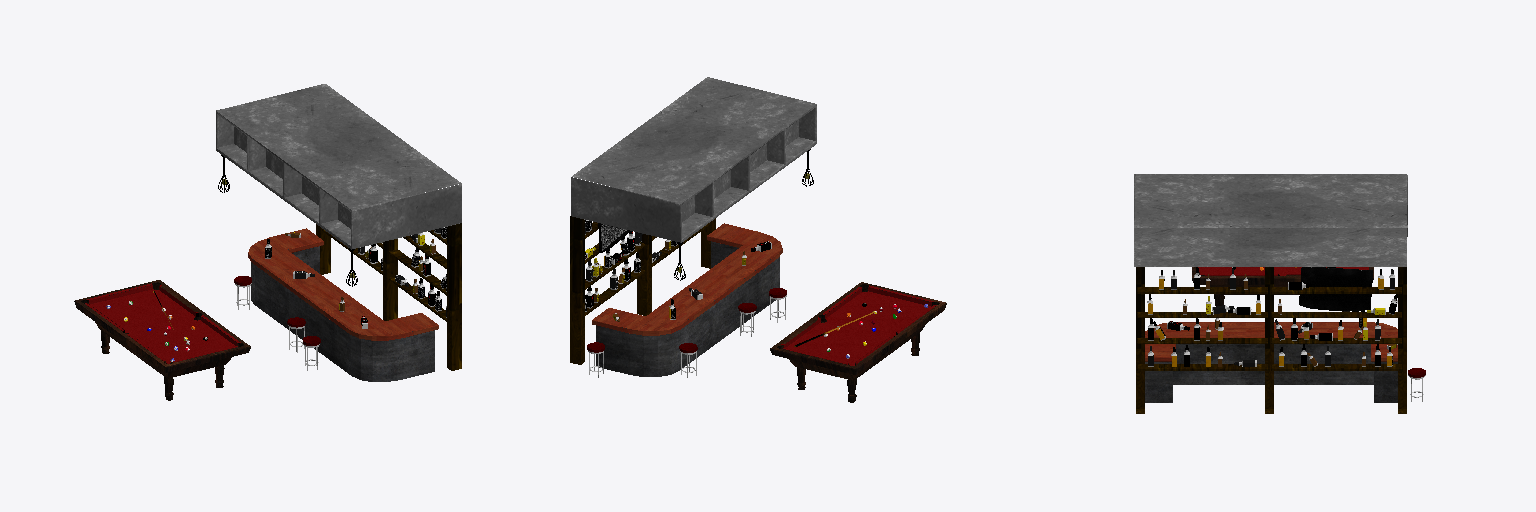
3 views of the same model, side by side, from view 1: azimuth 30°, elevation 25°; view 2: azimuth 150°, elevation 25°; view 3: azimuth 270°, elevation 25° (orthographic).
Visible parts, largest first — view 1: Mesh_1_Mesh_1_WallConcrete_MAT1, Mesh_1_Mesh_1_TableConcrete_MAT1, Mesh_1.001_Mesh_1.001_PoolTableFelt_MAT2, Mesh_1_Mesh_1_TableWood_MAT1, Mesh_1_Mesh_1_WallWood_MAT1, Mesh_1.001_Mesh_1.001_PoolTableWood_MAT2; view 2: Mesh_1_Mesh_1_WallConcrete_MAT1, Mesh_1_Mesh_1_TableConcrete_MAT1, Mesh_1_Mesh_1_TableWood_MAT1, Mesh_1.001_Mesh_1.001_PoolTableFelt_MAT2, Mesh_1_Mesh_1_WallWood_MAT1, Mesh_1.001_Mesh_1.001_PoolTableWood_MAT2, Mesh_1_Mesh_1_ChairLeather_MAT1, Mesh_1_Mesh_1_ChairMetal_MAT1; view 3: Mesh_1_Mesh_1_WallConcrete_MAT1, Mesh_1_Mesh_1_WallWood_MAT1, Mesh_1_Mesh_1_TableConcrete_MAT1, Mesh_1_Mesh_1_TableWood_MAT1, Mesh_1_Mesh_1_TVPlastic_MAT1, Mesh_1_Mesh_1_BottleStalingradPaper_MAT1, Mesh_1.001_Mesh_1.001_PoolTableWood_MAT2, Mesh_1_Mesh_1_BottleJackDanielsPaper_MAT1, Mesh_1.001_Mesh_1.001_PoolTableFelt_MAT2, Mesh_1_Mesh_1_BottleTonkosSpecialPaper_MAT1.
Part boxes in pixels (x1,y1,x2,y2): Mesh_1_Mesh_1_WallConcrete_MAT1: (216,84,461,249); Mesh_1_Mesh_1_TableConcrete_MAT1: (251,246,434,381); Mesh_1.001_Mesh_1.001_PoolTableFelt_MAT2: (85,283,240,363); Mesh_1_Mesh_1_TableWood_MAT1: (248,228,438,340); Mesh_1_Mesh_1_WallWood_MAT1: (316,223,461,370); Mesh_1.001_Mesh_1.001_PoolTableWood_MAT2: (74,280,250,400); Mesh_1_Mesh_1_WallConcrete_MAT1: (571,77,816,242); Mesh_1_Mesh_1_TableConcrete_MAT1: (596,241,779,376); Mesh_1_Mesh_1_TableWood_MAT1: (592,223,782,335); Mesh_1.001_Mesh_1.001_PoolTableFelt_MAT2: (783,285,936,365); Mesh_1_Mesh_1_WallWood_MAT1: (570,216,715,364); Mesh_1.001_Mesh_1.001_PoolTableWood_MAT2: (770,282,946,402); Mesh_1_Mesh_1_ChairLeather_MAT1: (587,288,786,352); Mesh_1_Mesh_1_ChairMetal_MAT1: (588,295,786,377); Mesh_1_Mesh_1_WallConcrete_MAT1: (1134,174,1407,266); Mesh_1_Mesh_1_WallWood_MAT1: (1136,267,1406,413); Mesh_1_Mesh_1_TableConcrete_MAT1: (1145,344,1397,402); Mesh_1_Mesh_1_TableWood_MAT1: (1145,322,1397,361); Mesh_1_Mesh_1_TVPlastic_MAT1: (1299,267,1372,311); Mesh_1_Mesh_1_BottleStalingradPaper_MAT1: (1148,267,1397,366); Mesh_1.001_Mesh_1.001_PoolTableWood_MAT2: (1192,267,1373,311); Mesh_1_Mesh_1_BottleJackDanielsPaper_MAT1: (1148,269,1392,366); Mesh_1.001_Mesh_1.001_PoolTableFelt_MAT2: (1198,267,1368,275); Mesh_1_Mesh_1_BottleTonkosSpecialPaper_MAT1: (1148,269,1394,366).
Size of the model in its own units: 6.2 by 4.1 by 5.81.
23 materials, 17 textured.